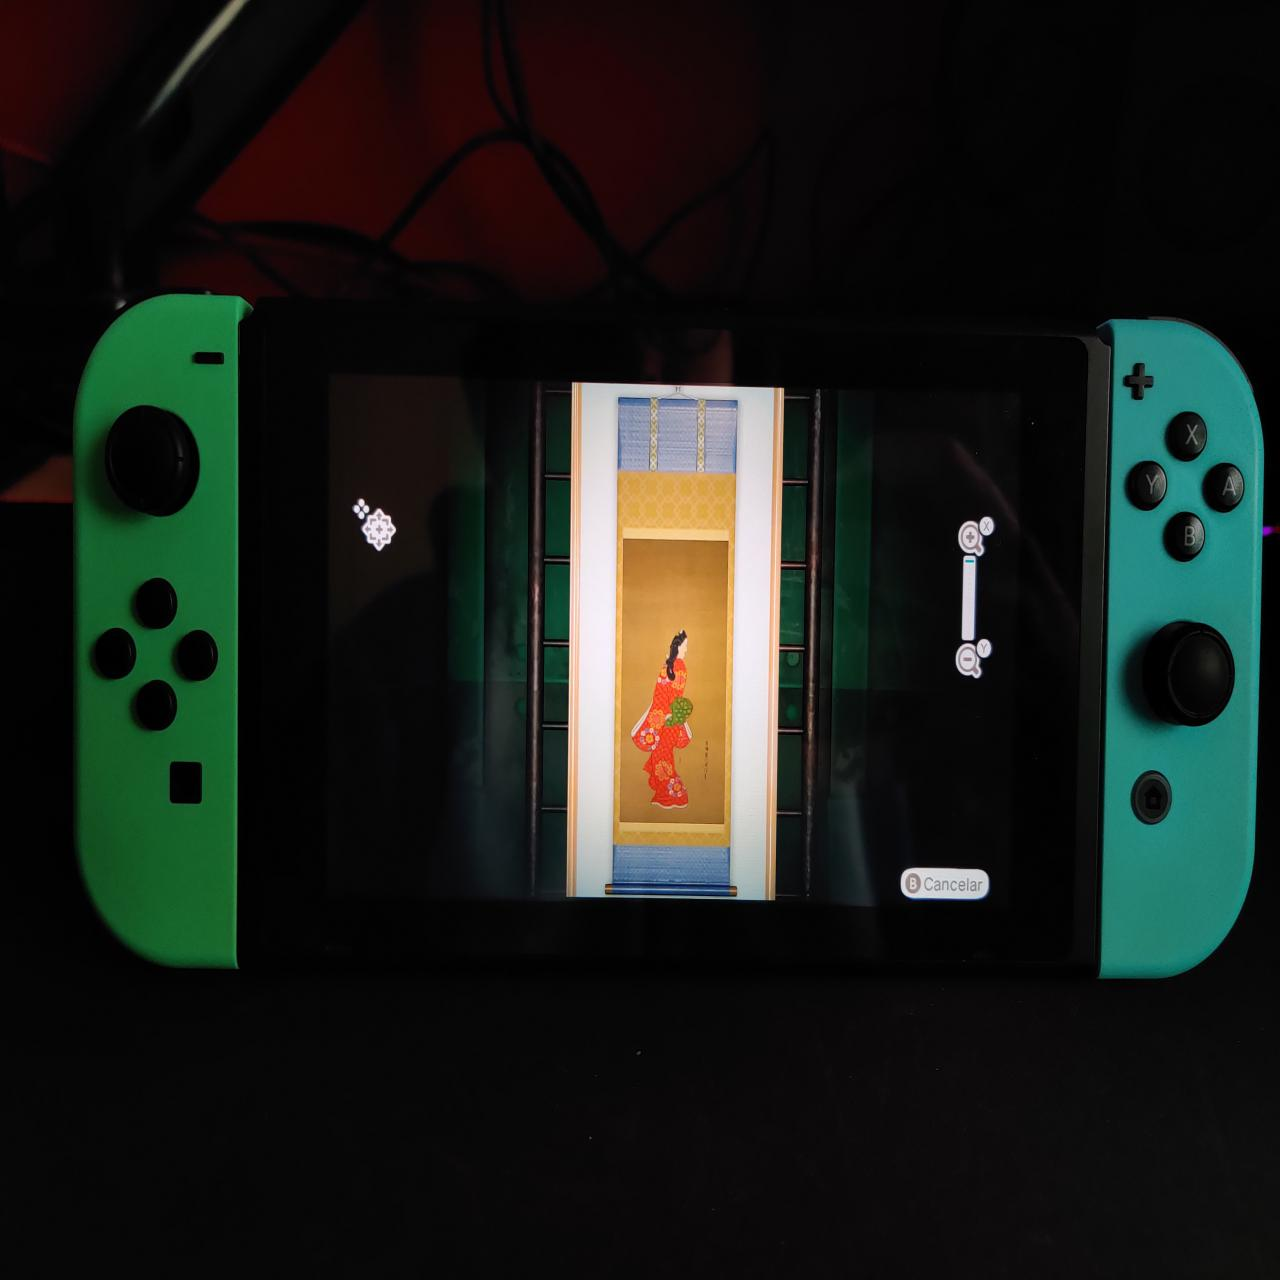Mikaeri: (618, 527, 726, 832)
